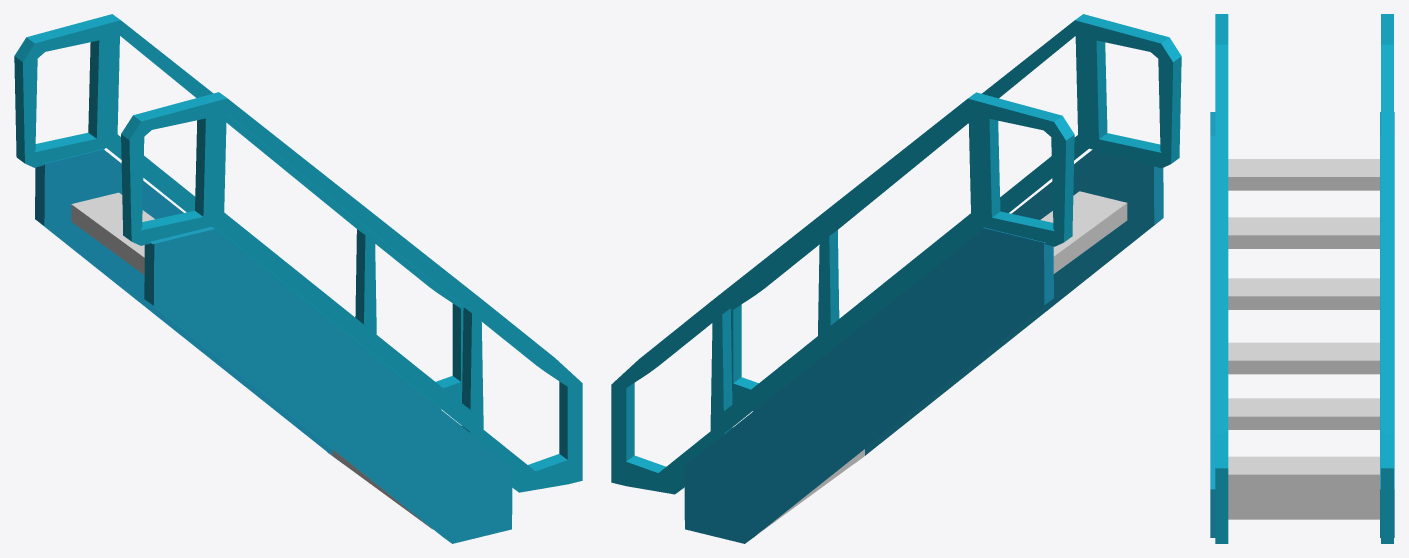
Rendered from stairs.fbx.
3 views of the same model, side by side, from view 1: azimuth 30°, elevation 25°; view 2: azimuth 150°, elevation 25°; view 3: azimuth 270°, elevation 25° (orthographic). The views are drawn at different scales.
Parts seen in each view (by area): view 1: Cube.004, Cube.003, Cube, Cube.002; view 2: Cube.004, Cube, Cube.003, Cube.002; view 3: Cube.002, Cube.004, Cube.003, Cube.
Part boxes in pixels (x1,y1,x2,y2): Cube.004: [14, 14, 582, 492]; Cube.003: [144, 226, 512, 543]; Cube: [35, 148, 332, 455]; Cube.002: [71, 192, 432, 529]; Cube.004: [611, 14, 1181, 494]; Cube: [684, 227, 1053, 543]; Cube.003: [865, 149, 1163, 455]; Cube.002: [759, 191, 1127, 533]; Cube.002: [1228, 159, 1379, 519]; Cube.004: [1215, 14, 1393, 543]; Cube.003: [1210, 112, 1215, 537]; Cube: [1380, 112, 1394, 537].
Bounding box in the file's own units: 1526 × 1601 × 693.
